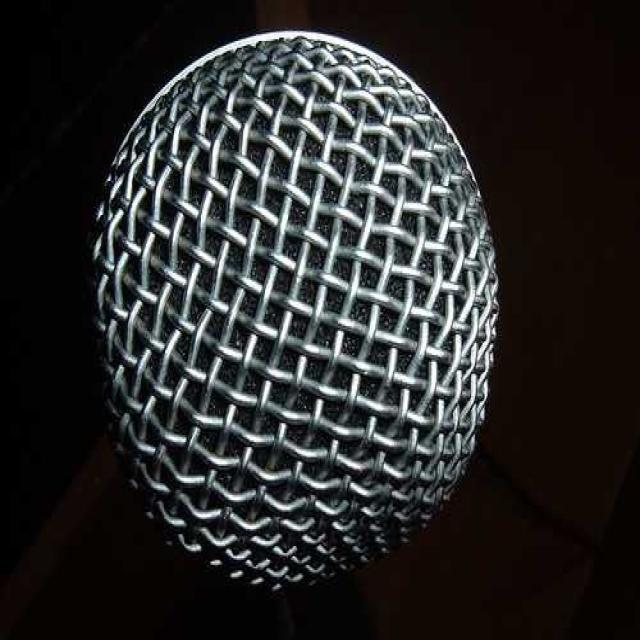microphone: (91, 46, 485, 570)
